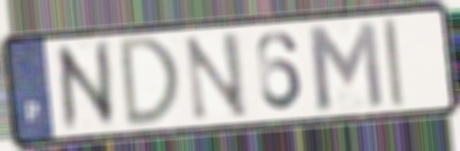6: (254, 30, 306, 114)
D: (118, 33, 184, 132)
I: (380, 15, 407, 112)
M: (303, 18, 388, 113)
N: (51, 37, 122, 136), (181, 29, 251, 124)
